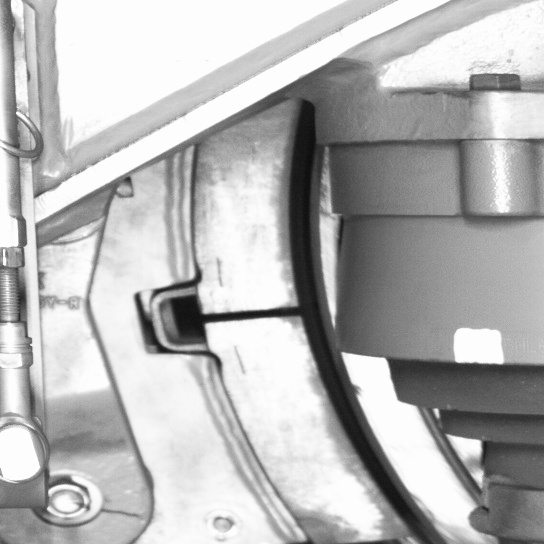KnifeSwitch: (209, 141, 448, 542)
